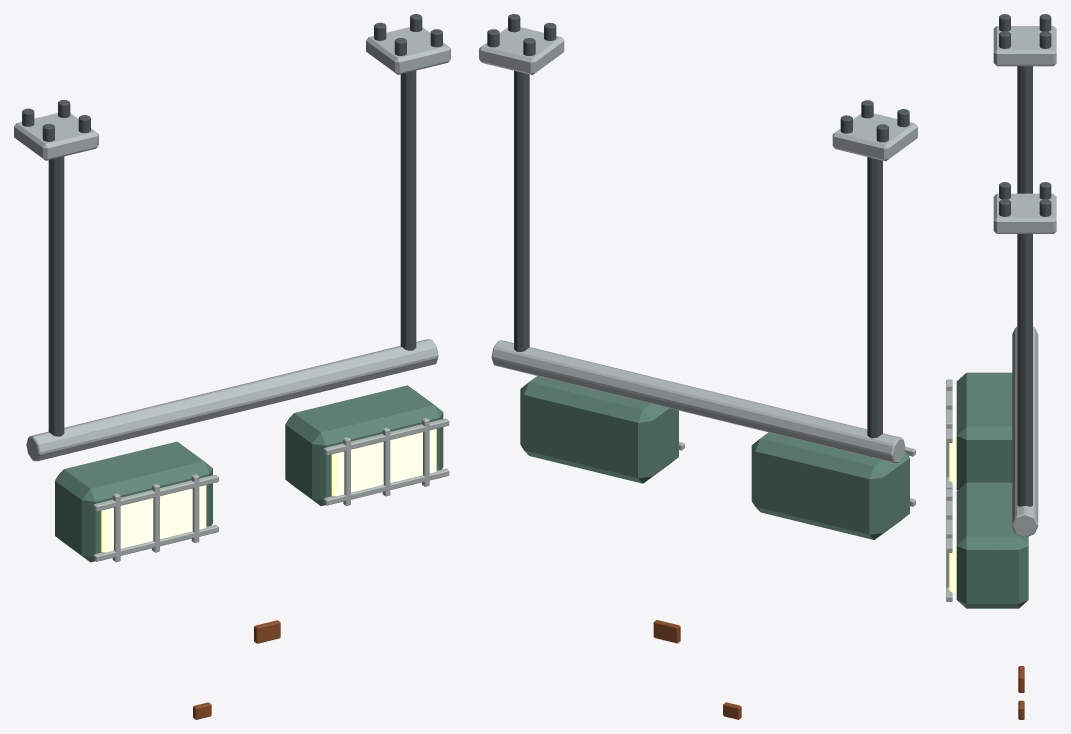
File: runtime.glb
3 views of the same model, side by side, from view 1: azimuth 30°, elevation 25°; view 2: azimuth 150°, elevation 25°; view 3: azimuth 270°, elevation 25° (orthographic). The views are drawn at different scales.
Visible parts, largest first — view 1: reactor-maintenance-light-v08_nocol; view 2: reactor-maintenance-light-v08_nocol; view 3: reactor-maintenance-light-v08_nocol.
Part boxes in pixels (x1=…): reactor-maintenance-light-v08_nocol: x1=14, y1=14, x2=450, y2=719; reactor-maintenance-light-v08_nocol: x1=479, y1=14, x2=917, y2=719; reactor-maintenance-light-v08_nocol: x1=946, y1=14, x2=1056, y2=719.
Size of the model in its own units: 2.55 by 3.81 by 0.6125.
